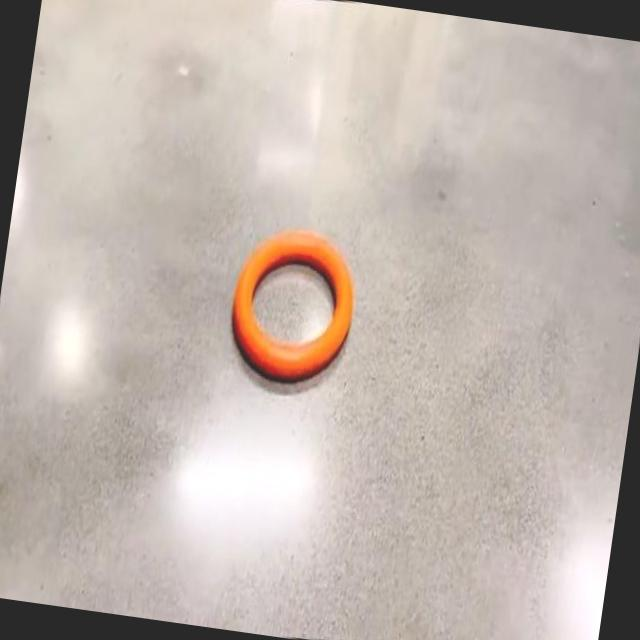note: (233, 230, 355, 379)
